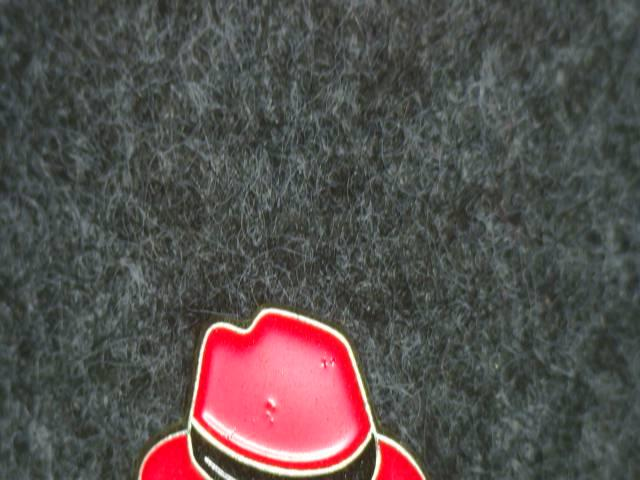Red-Hat: (122, 290, 451, 480)
